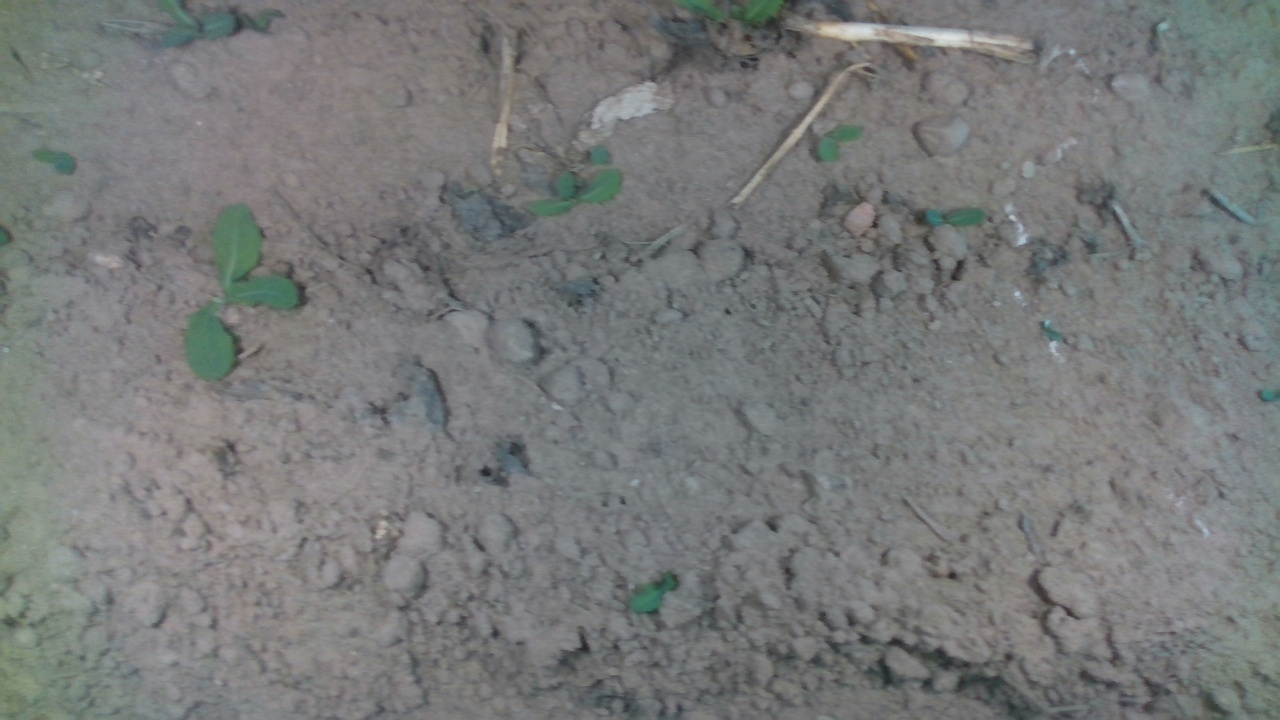weed: (182, 200, 301, 384), (519, 164, 623, 218), (814, 121, 867, 164), (922, 204, 987, 228)
